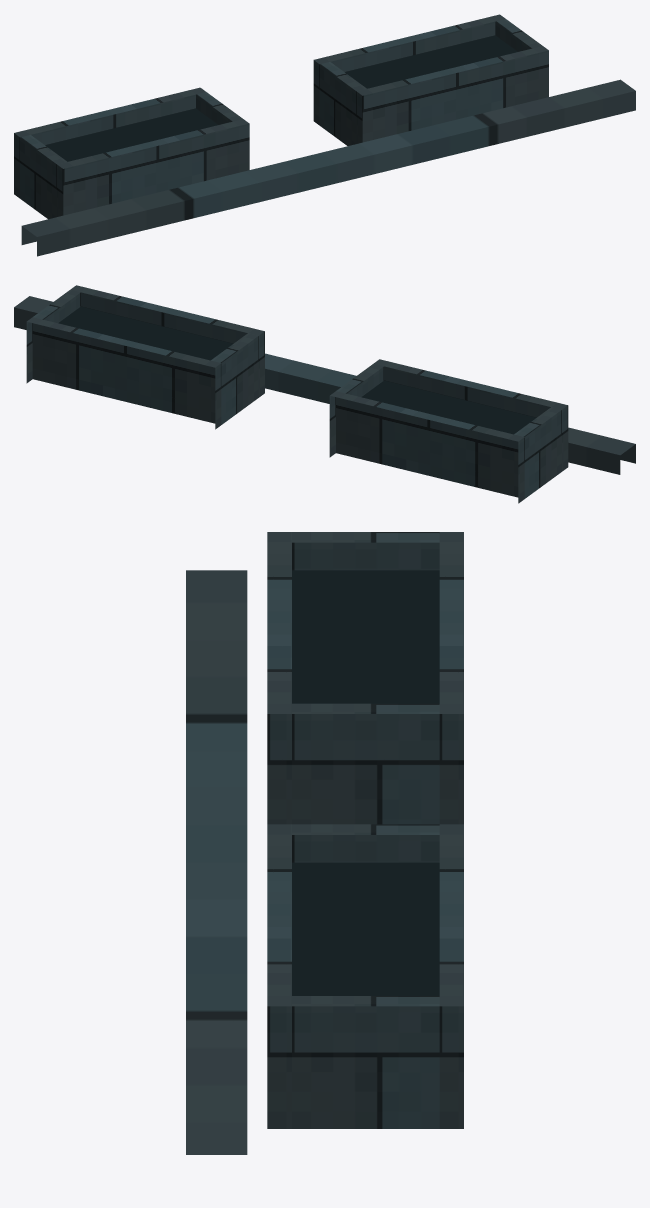
File: T1_Lane_Start_B.fbx
3 views of the same model, one above another, from view 1: azimuth 30°, elevation 25°; view 2: azimuth 150°, elevation 25°; view 3: azimuth 270°, elevation 25° (orthographic). The views are drawn at different scales.
Parts seen in each view (by area): view 1: T1_Lane_Start_B; view 2: T1_Lane_Start_B; view 3: T1_Lane_Start_B.
Part boxes in pixels (x1,y1,x2,y2): T1_Lane_Start_B: (14,14,635,256); T1_Lane_Start_B: (14,285,635,503); T1_Lane_Start_B: (186,532,463,1154).
Size of the model in its own units: 4.5 by 0.44 by 0.905.
